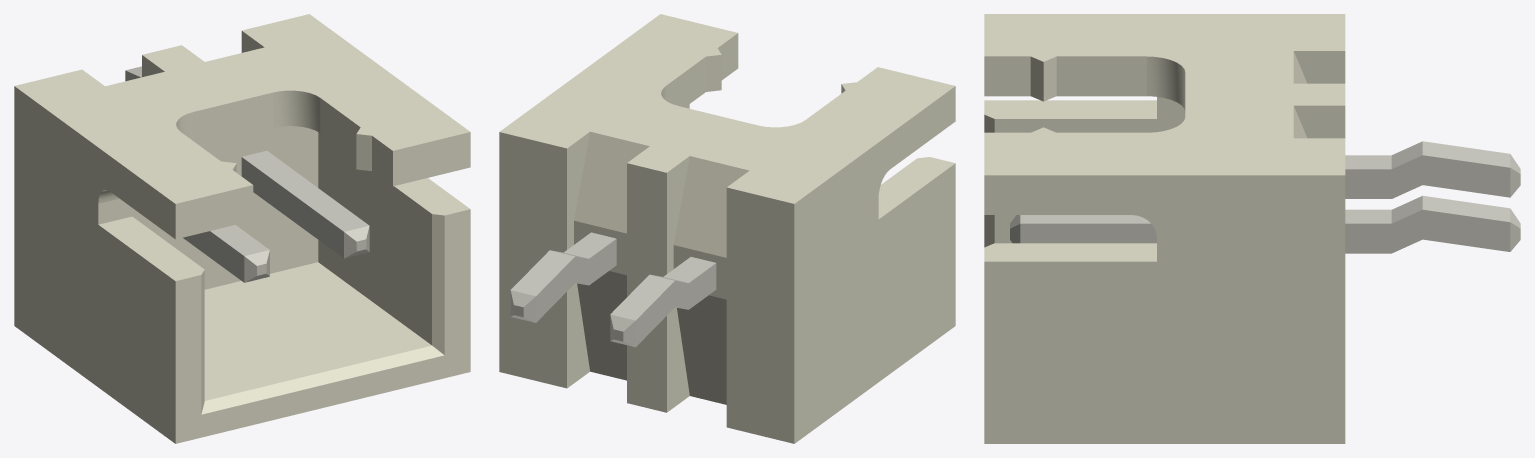
The model's file is Connector_JST_JST_XH_B2B-XH-A_1x02_P2.50mm_Vertical.glb.
The picture shows the model from 3 angles, left to right: view 1: azimuth 30°, elevation 25°; view 2: azimuth 150°, elevation 25°; view 3: azimuth 270°, elevation 25°; orthographic projection. The views are drawn at different scales.
Bounding box in the file's own units: 7.4 × 5.75 × 10.4.
